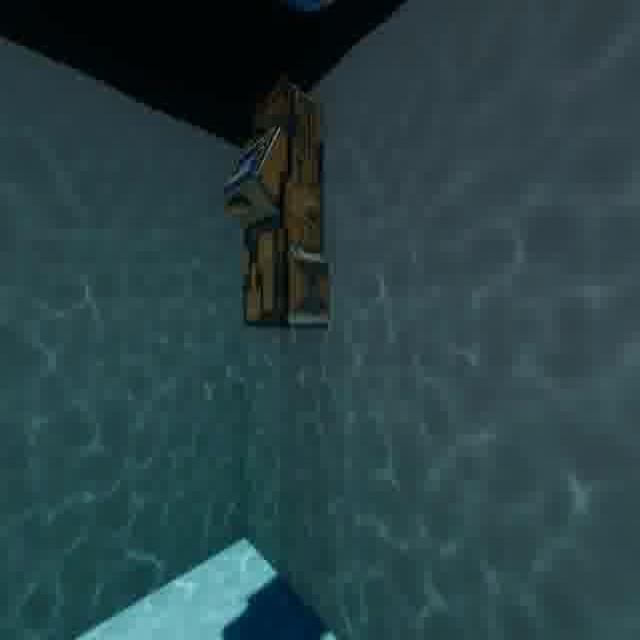Control Panel: (209, 73, 343, 343)
